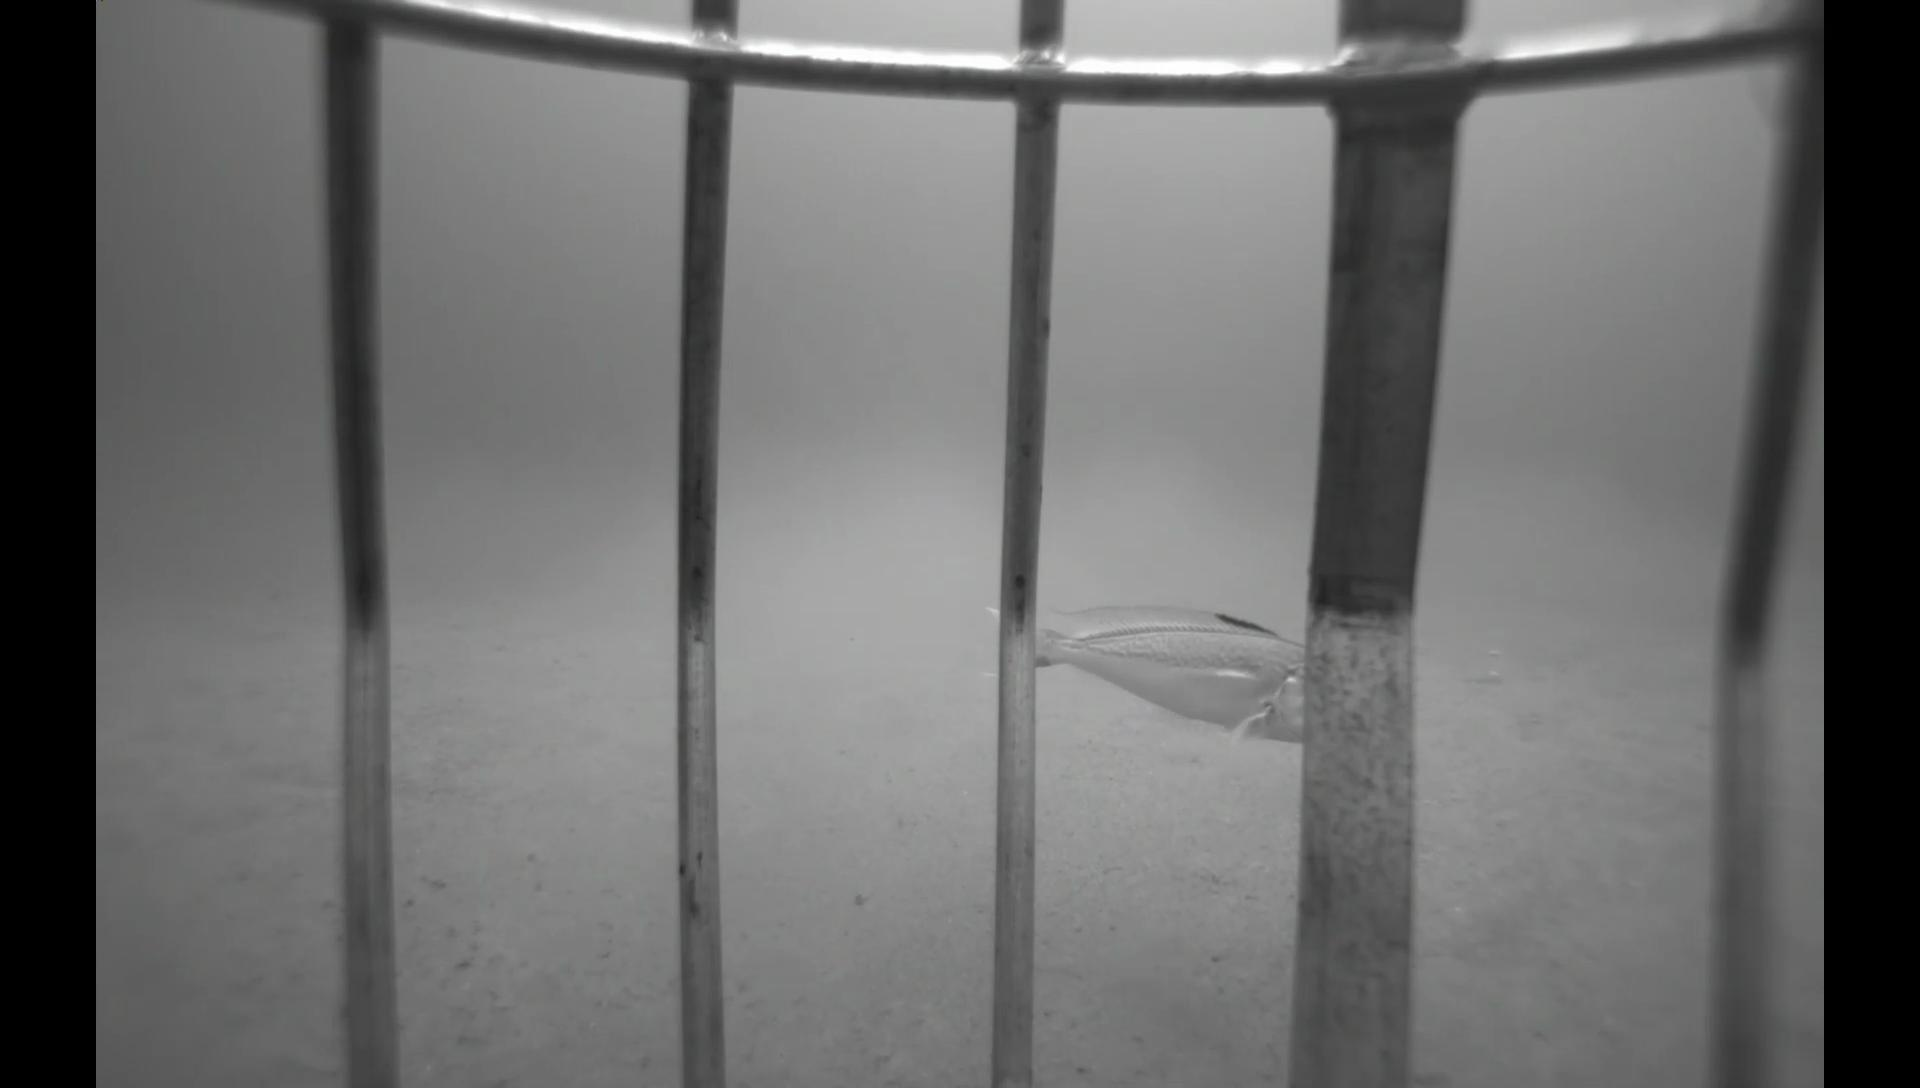CAULOLATILUSCYANOPS-170070101: (975, 589, 1311, 754)
SYACIUM-183011000: (1163, 716, 1232, 736)
